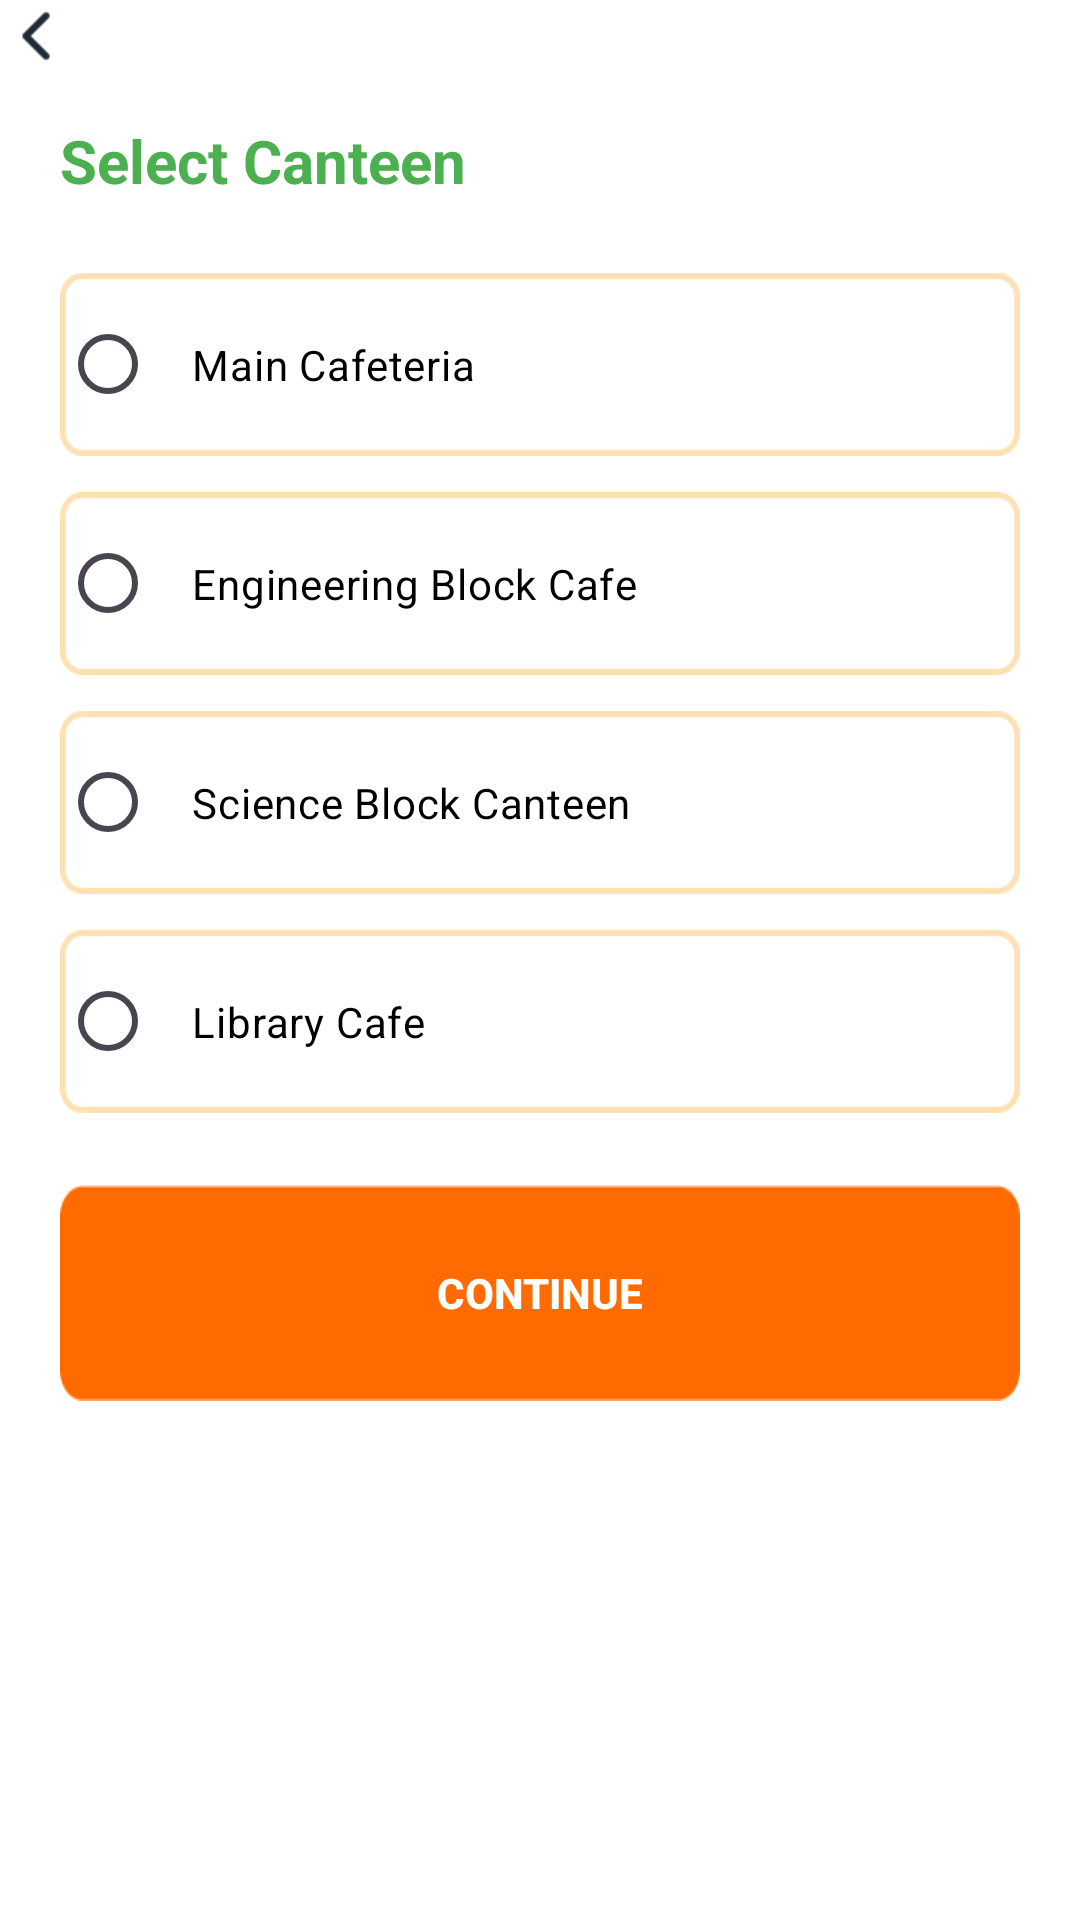

Icon click points for this 1080*1920 phone screenshot, format (x,y):
Back: (36,36)
